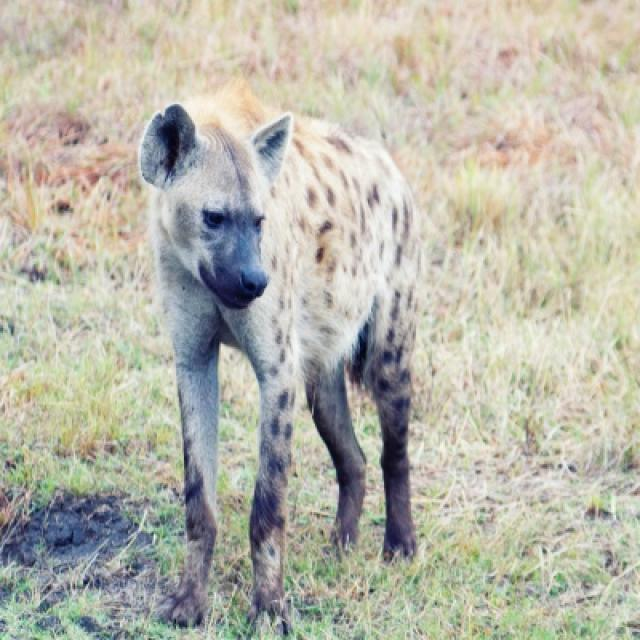hyena: (138, 88, 422, 622)
